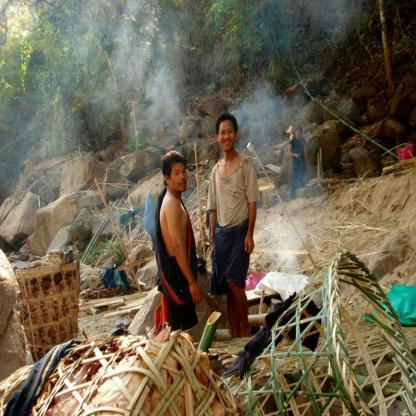face: (169, 163, 188, 192), (220, 123, 236, 151), (297, 130, 302, 138)
